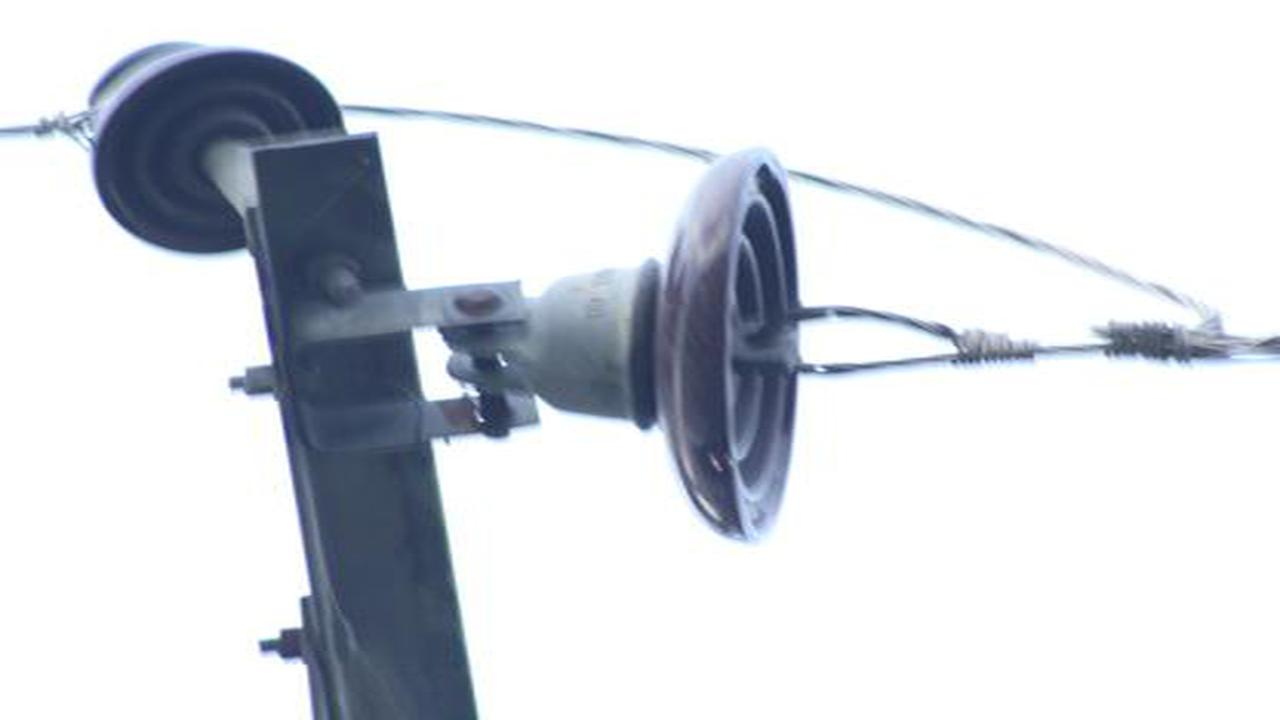insulator_disc: (529, 143, 801, 551)
insulator_pin: (76, 38, 349, 252)
